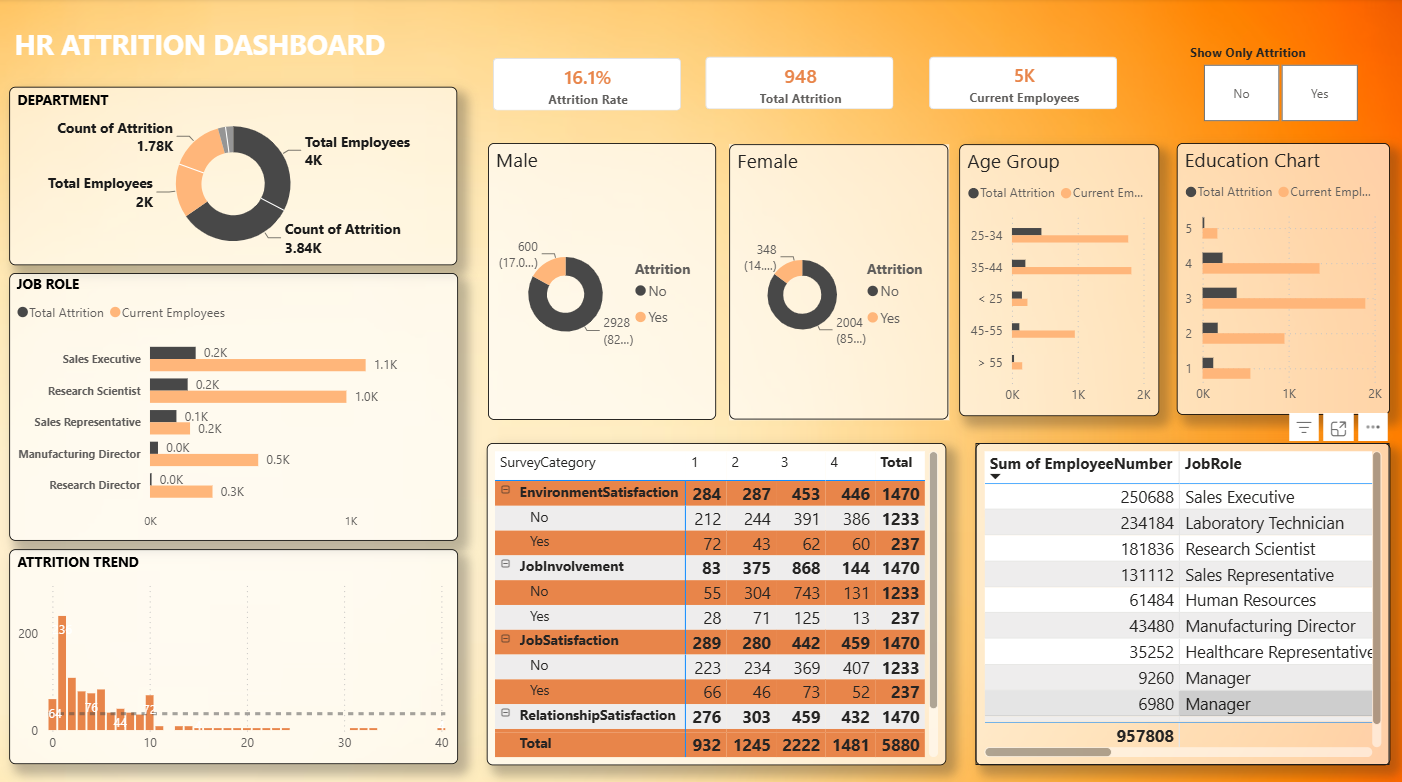

What the dashboard file says about the page in this screenshot:
{"tool":"powerbi","page":{"name":"Page 1","canvas":[1366,768],"ordinal":0},"visuals":[{"type":"textbox","box":[16.1,22,420.3,60],"z":0},{"type":"donutChart","title":"DEPARTMENT","fields":{"Y":["Hr_Data.Total Employees","CountNonNull(Hr_Data.Attrition)"],"Category":["Hr_Data.Department"]},"box":[16.1,86.4,433.5,172.8],"z":1000},{"type":"clusteredBarChart","title":"JOB ROLE","fields":{"Category":["Hr_Data.JobRole"],"Y":["Hr_Data.Total Attrition","Hr_Data.Current Employees"]},"box":[16,266,434,259],"z":2000},{"type":"cardVisual","fields":{"Data":["Hr_Data.Total Attrition"]},"box":[673.1,39.5,216,85.5],"z":3000},{"type":"clusteredColumnChart","title":"ATTRITION TREND","fields":{"Category":["Hr_Data.YearsAtCompany"],"Y":["CountNonNull(Hr_Data.Attrition)"]},"box":[16,534,434,208],"z":4000},{"type":"clusteredBarChart","title":"Age Group ","fields":{"Category":["Hr_Data.Age Group"],"Y":["Hr_Data.Total Attrition","Hr_Data.Current Employees"]},"box":[935.8,142,193.3,263.6],"z":5000},{"type":"clusteredBarChart","title":"Education Chart","fields":{"Category":["Hr_Data.Education"],"Y":["Hr_Data.Total Attrition","Hr_Data.Current Employees"]},"box":[1145.2,140.6,206.5,263.6],"z":6000},{"type":"pivotTable","fields":{"Rows":["Hr_Data.SurveyCategory","Hr_Data.Attrition"],"Columns":["Hr_Data.Score"],"Values":["Hr_Data.Total Employees"]},"box":[477.4,430.5,445.2,311.9],"z":7000},{"type":"tableEx","fields":{"Values":["Sum(Hr_Data.EmployeeNumber)","Hr_Data.JobRole","Hr_Data.Department","Sum(Hr_Data.MonthlyIncome)","Sum(Hr_Data.PercentSalaryHike)","Sum(Hr_Data.PerformanceRating)"]},"box":[950.4,430.5,401.2,311.9],"z":8000},{"type":"slicer","fields":{"Values":["Hr_Data.Attrition"]},"box":[1145.2,39.5,199.2,86.4],"z":9000},{"type":"group","id":"g1","title":"Group 2","box":[713,142,212.3,266.5],"z":10000},{"type":"donutChart","title":"Male","fields":{"Category":["Hr_Data.Attrition"],"Y":["CountNonNull(Hr_Data.EmployeeNumber)"]},"box":[478.9,140.6,221.1,268],"z":11000},{"type":"cardVisual","fields":{"Data":["Hr_Data.Attrition Rate"]},"box":[467,41,216,85],"z":12000},{"type":"cardVisual","fields":{"Data":["Hr_Data.Current Employees"]},"box":[889,40,216,85],"z":13000},{"type":"donutChart","title":"Female","fields":{"Category":["Hr_Data.Attrition"],"Y":["CountNonNull(Hr_Data.EmployeeNumber)"]},"box":[713,142,212.3,266.5],"z":13000,"group":"g1"}]}

Visuals, with their boxes in screenshot pixels (x1, y1, x2, y2), scaled from the page's 1366x768 canvas onto the 1402x782 screenshot:
textbox: (x1=17, y1=22, x2=448, y2=83)
"DEPARTMENT" donutChart: (x1=17, y1=88, x2=461, y2=264)
"JOB ROLE" clusteredBarChart: (x1=16, y1=271, x2=462, y2=535)
cardVisual - Hr_Data.Total Attrition: (x1=691, y1=40, x2=913, y2=127)
"ATTRITION TREND" clusteredColumnChart: (x1=16, y1=544, x2=462, y2=756)
"Age Group " clusteredBarChart: (x1=960, y1=145, x2=1159, y2=413)
"Education Chart" clusteredBarChart: (x1=1175, y1=143, x2=1387, y2=412)
pivotTable - Hr_Data.SurveyCategory x Hr_Data.Attrition: (x1=490, y1=438, x2=947, y2=756)
tableEx - Sum(Hr_Data.EmployeeNumber) x Hr_Data.JobRole: (x1=975, y1=438, x2=1387, y2=756)
slicer - Hr_Data.Attrition: (x1=1175, y1=40, x2=1380, y2=128)
"Group 2" group: (x1=732, y1=145, x2=950, y2=416)
"Male" donutChart: (x1=492, y1=143, x2=718, y2=416)
cardVisual - Hr_Data.Attrition Rate: (x1=479, y1=42, x2=701, y2=128)
cardVisual - Hr_Data.Current Employees: (x1=912, y1=41, x2=1134, y2=127)
"Female" donutChart: (x1=732, y1=145, x2=950, y2=416)
